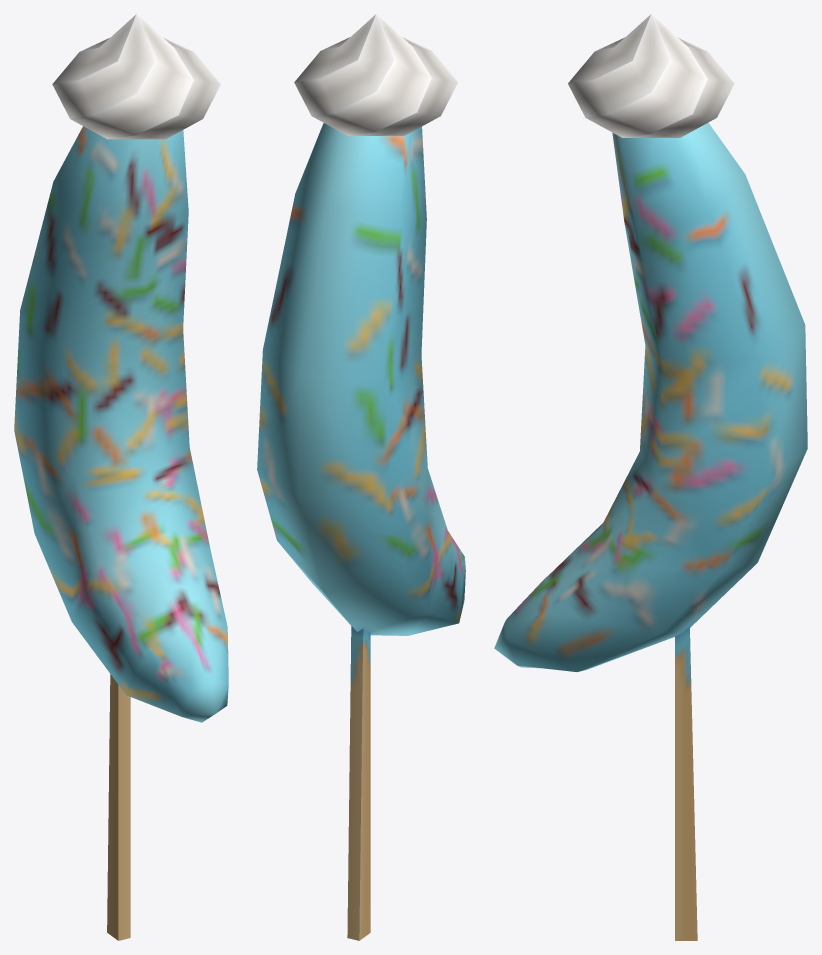
File: jsf_ChocolateBanana_a03_c03.fbx
3 renders of one model, left to right at view 1: azimuth 30°, elevation 25°; view 2: azimuth 150°, elevation 25°; view 3: azimuth 270°, elevation 25°, orthographic. The views are drawn at different scales.
Visible parts, largest first — view 1: jsf_ChocolateBanana_a03_c03; view 2: jsf_ChocolateBanana_a03_c03; view 3: jsf_ChocolateBanana_a03_c03.
Boxes of the visible parts, x1=… form: jsf_ChocolateBanana_a03_c03: x1=14, y1=14, x2=228, y2=940; jsf_ChocolateBanana_a03_c03: x1=257, y1=14, x2=465, y2=940; jsf_ChocolateBanana_a03_c03: x1=494, y1=14, x2=807, y2=940.
Size of the model in its own units: 3.79 by 25.44 by 7.83.
